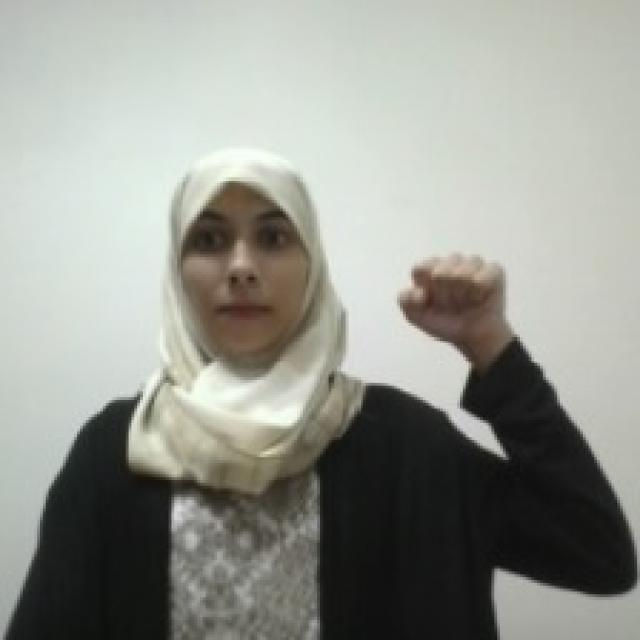yes: (392, 245, 510, 342)
